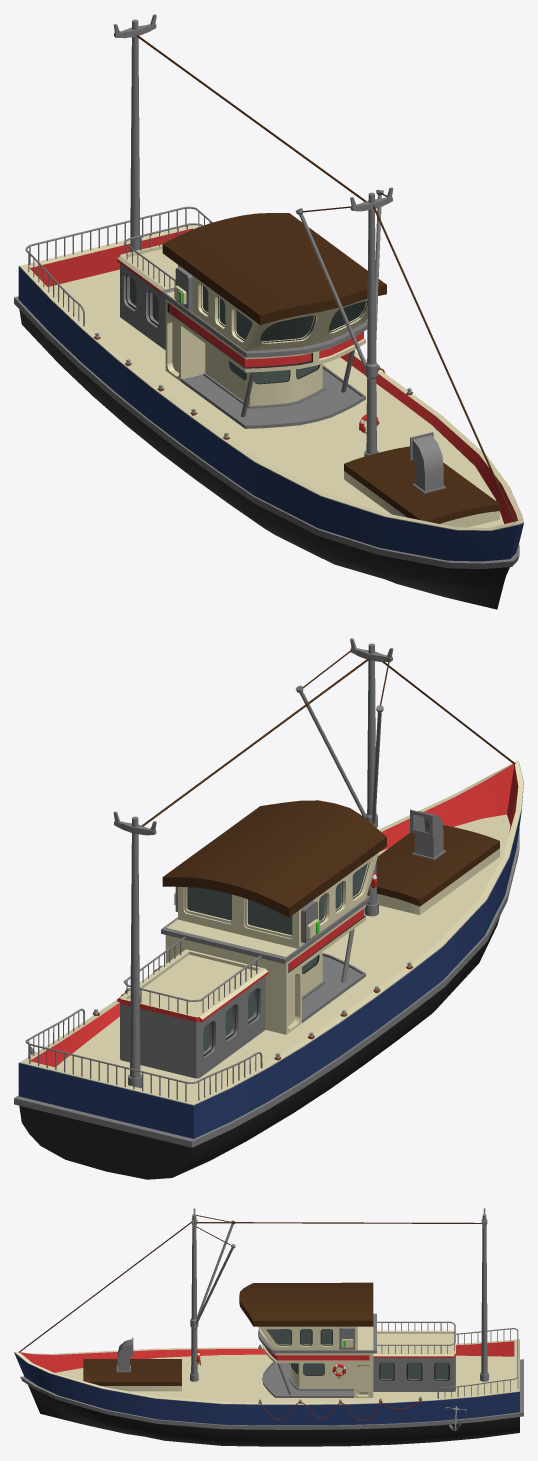
The model's file is Trawler-L00A.fbx.
3 renders of one model, top to bottom at view 1: azimuth 30°, elevation 25°; view 2: azimuth 150°, elevation 25°; view 3: azimuth 270°, elevation 25°, orthographic. The views are drawn at different scales.
Parts seen in each view (by area): view 1: Trawler-L00A; view 2: Trawler-L00A; view 3: Trawler-L00A.
Boxes of the visible parts, <box> form: Trawler-L00A: <box>14,14,523,609</box>; Trawler-L00A: <box>14,638,523,1179</box>; Trawler-L00A: <box>14,1208,523,1446</box>.
Bounding box in the file's own units: 981 × 1502 × 3192.
